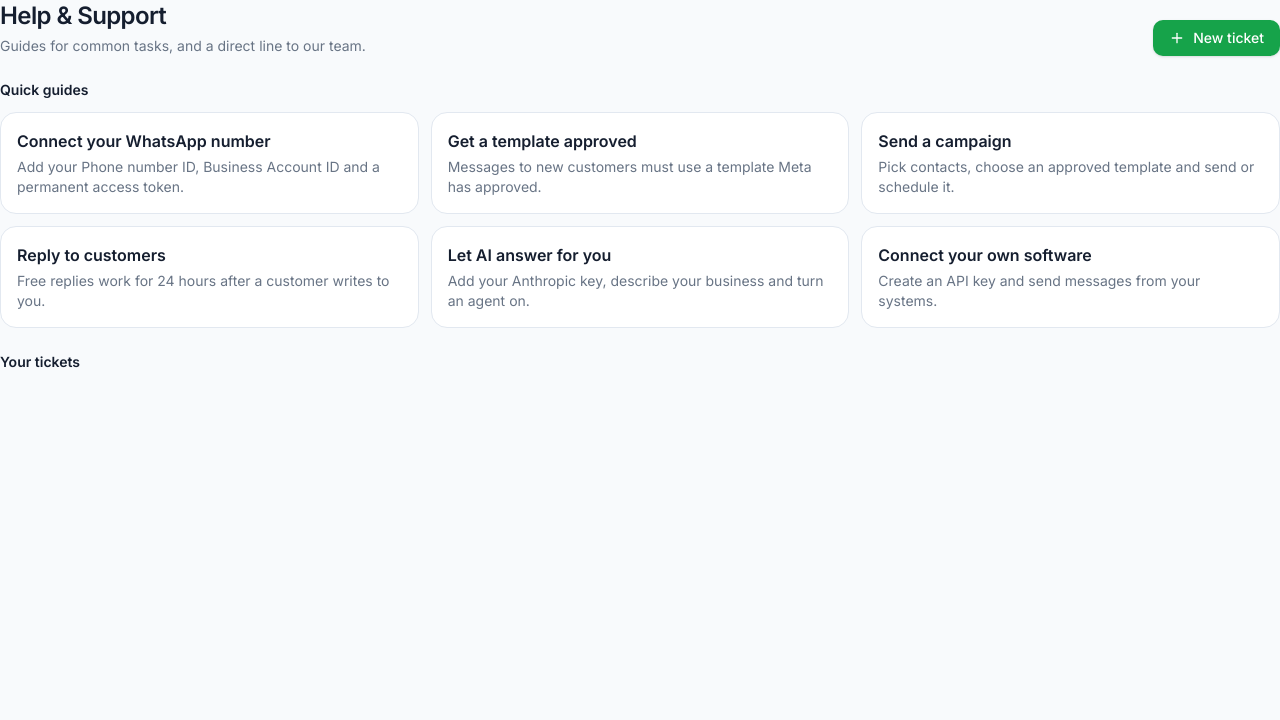
it: Help & Support › opens a ticket, then shows its conversation
The image size is (1280, 720).
Step 1. Click the button "New ticket" → coordinates (1217, 38), box left=1153, top=20, right=1279, bottom=56
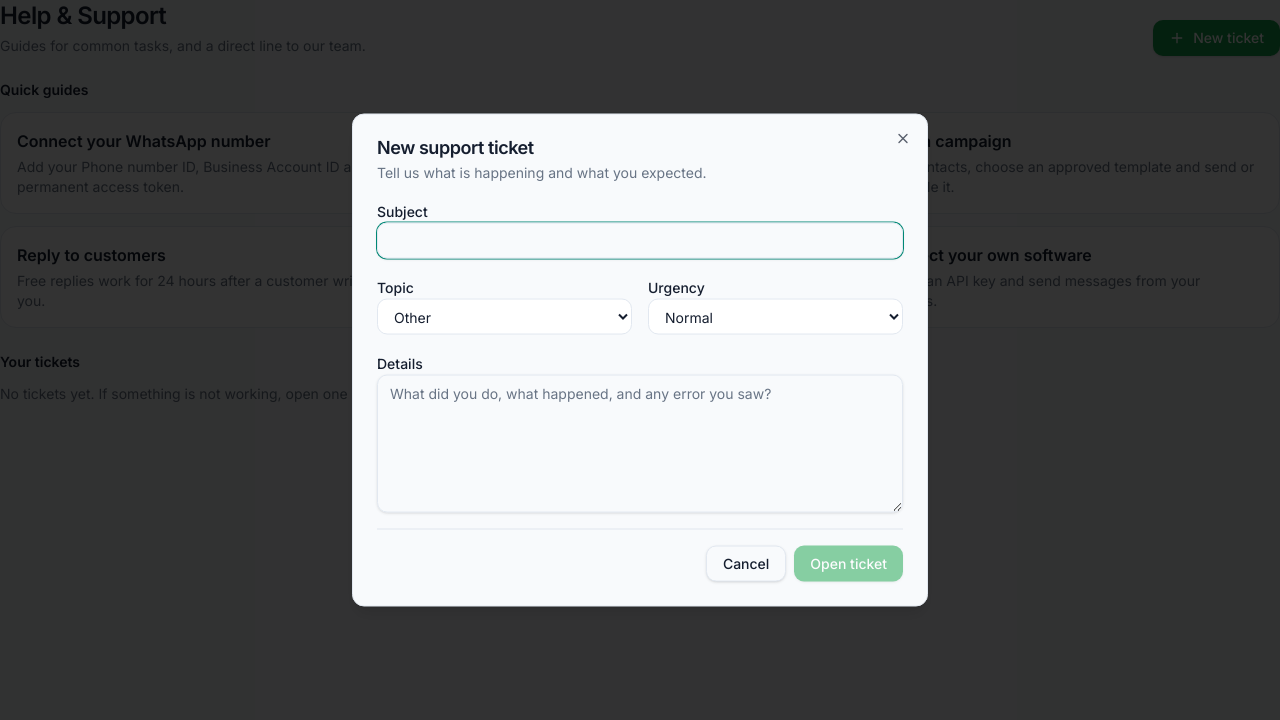
Step 2. Type "Template stuck" into the field labelled "Subject" → coordinates (640, 240), box left=377, top=222, right=903, bottom=258
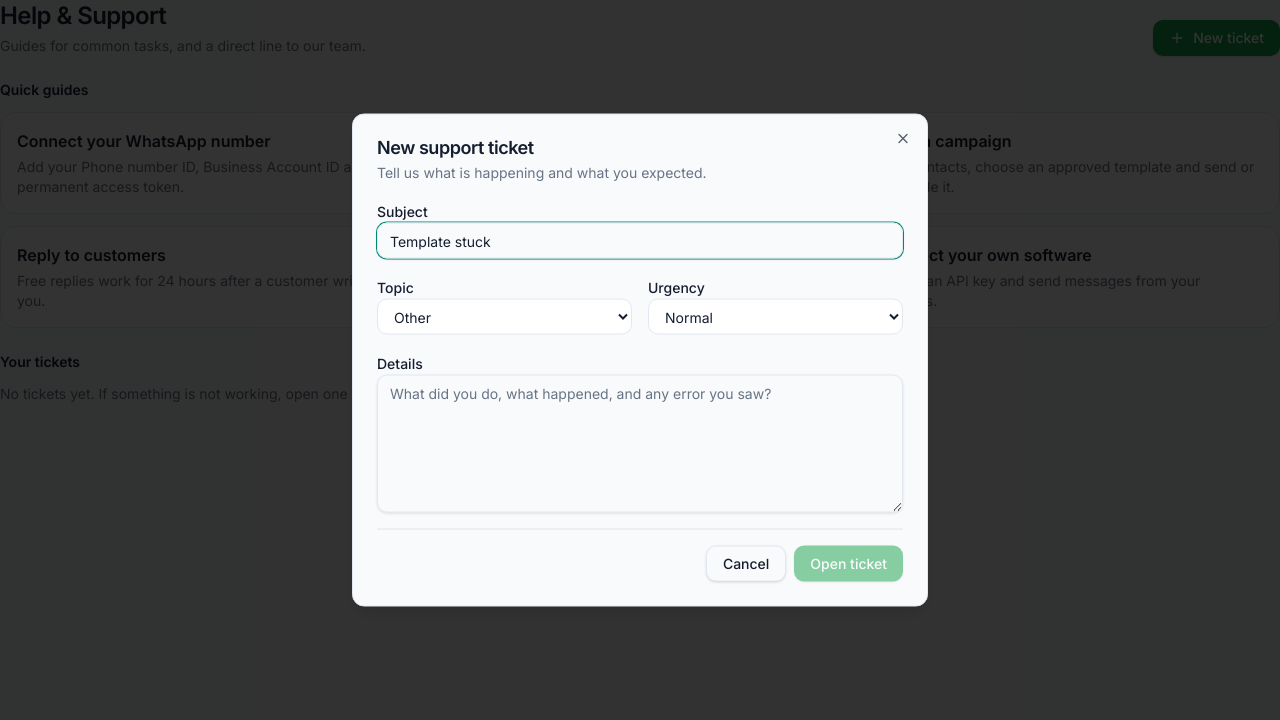
Step 3. Select "Templates" in the dropdown labelled "Topic" → coordinates (504, 316), box left=377, top=298, right=632, bottom=334
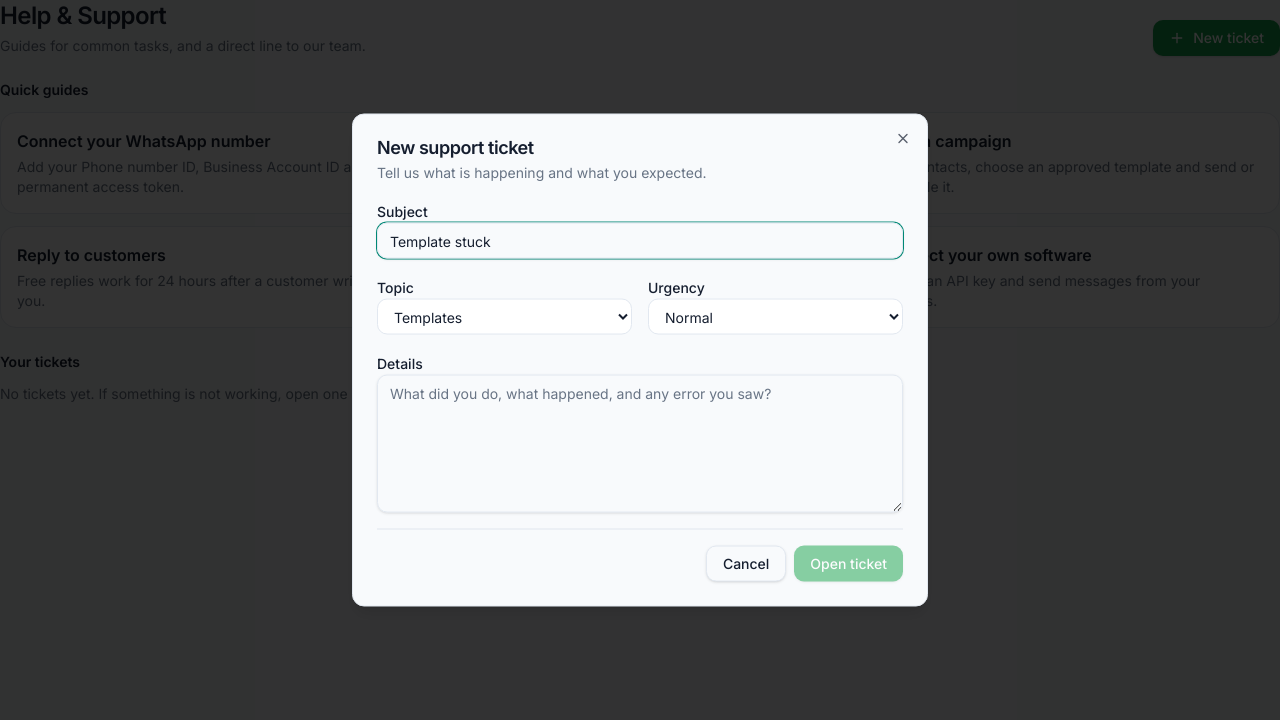
Step 4. Select "High: I cannot send messages" in the dropdown labelled "Urgency" → coordinates (776, 316), box left=648, top=298, right=903, bottom=334
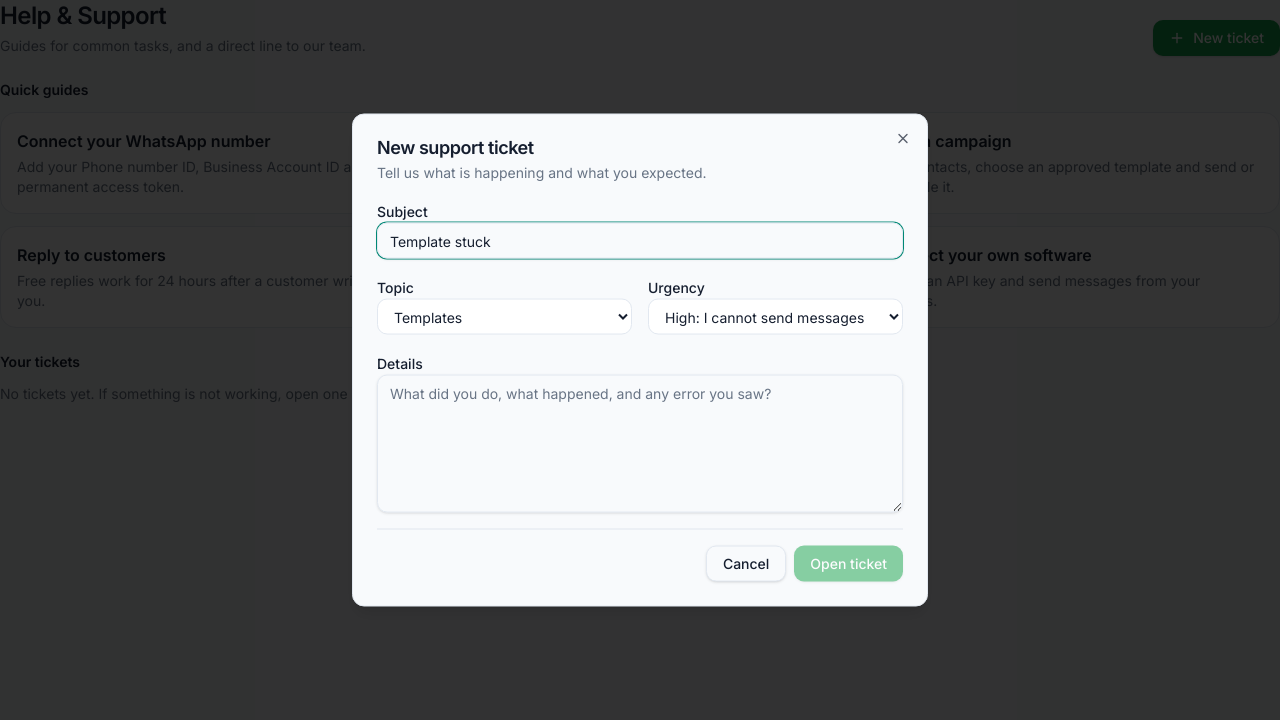
Step 5. Type "Pending for two days." into the text box labelled "Details" → coordinates (640, 444), box left=377, top=374, right=903, bottom=512
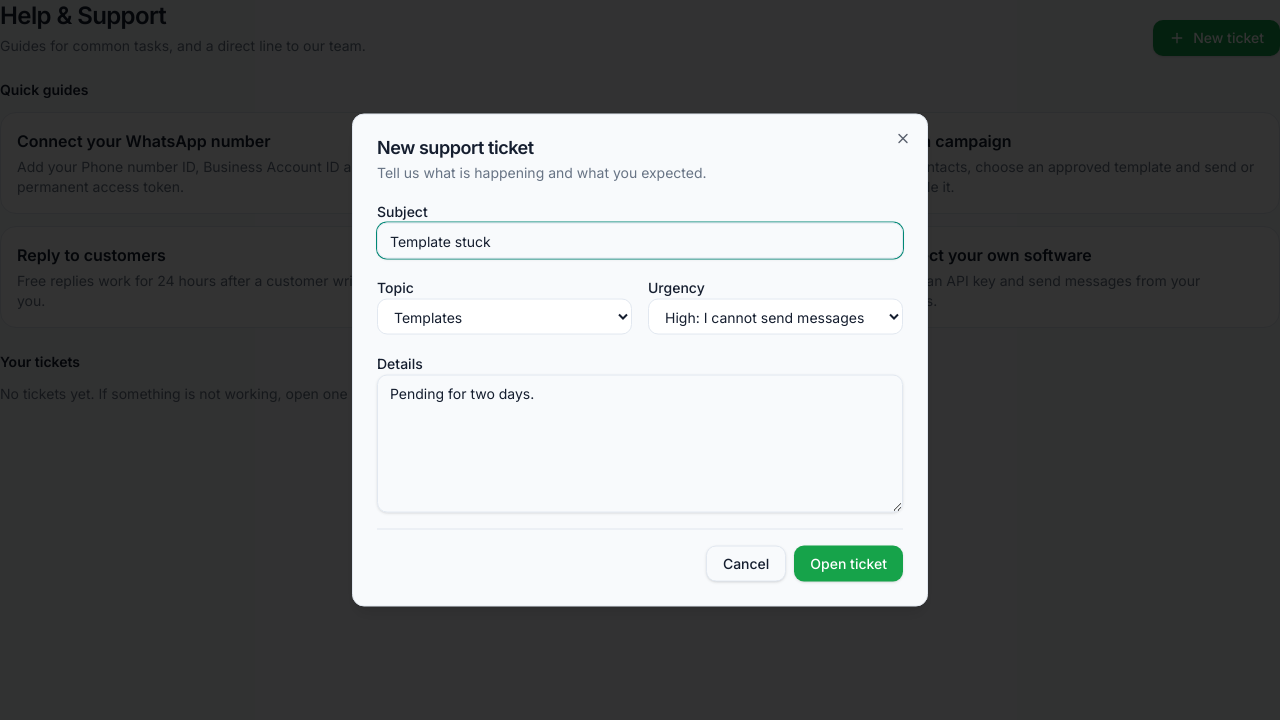
Step 6. Click the button "Open ticket" → coordinates (849, 564), box left=794, top=546, right=903, bottom=582
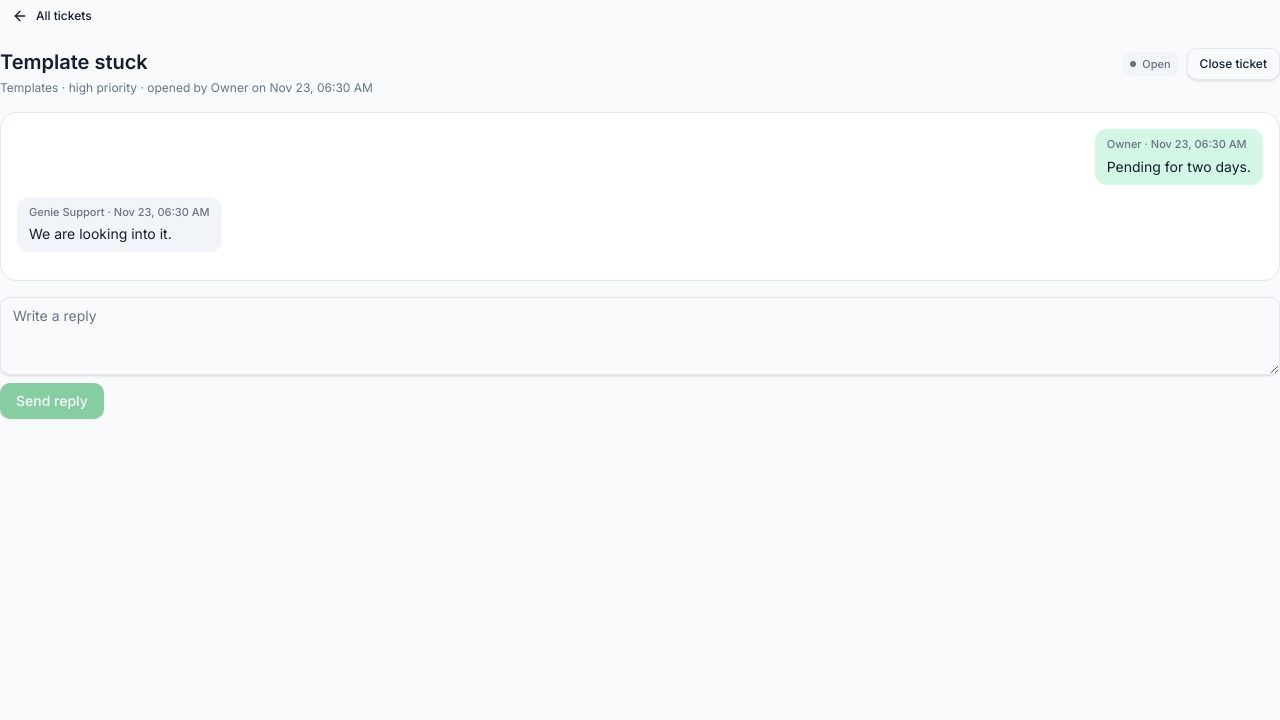
Check: the text "We are looking into it." is shown, box left=29, top=225, right=172, bottom=242
